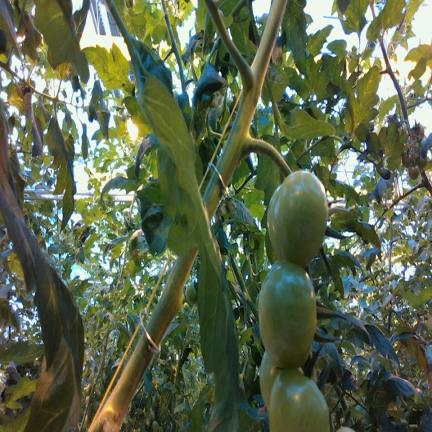6kp_peduncle: (218, 95, 293, 181)
6kp_petiole: (215, 16, 273, 130), (411, 169, 432, 194), (400, 99, 418, 119)
MainStem: (89, 250, 196, 432), (203, 0, 288, 220), (381, 40, 410, 127)
tomato: (259, 260, 316, 368), (267, 170, 328, 267), (269, 368, 329, 431), (260, 350, 280, 409), (185, 284, 197, 304), (401, 152, 413, 166), (408, 166, 419, 179), (417, 156, 427, 168), (399, 122, 407, 134), (337, 426, 355, 431), (152, 420, 160, 431), (95, 389, 101, 401), (419, 125, 424, 139), (94, 401, 99, 412)
